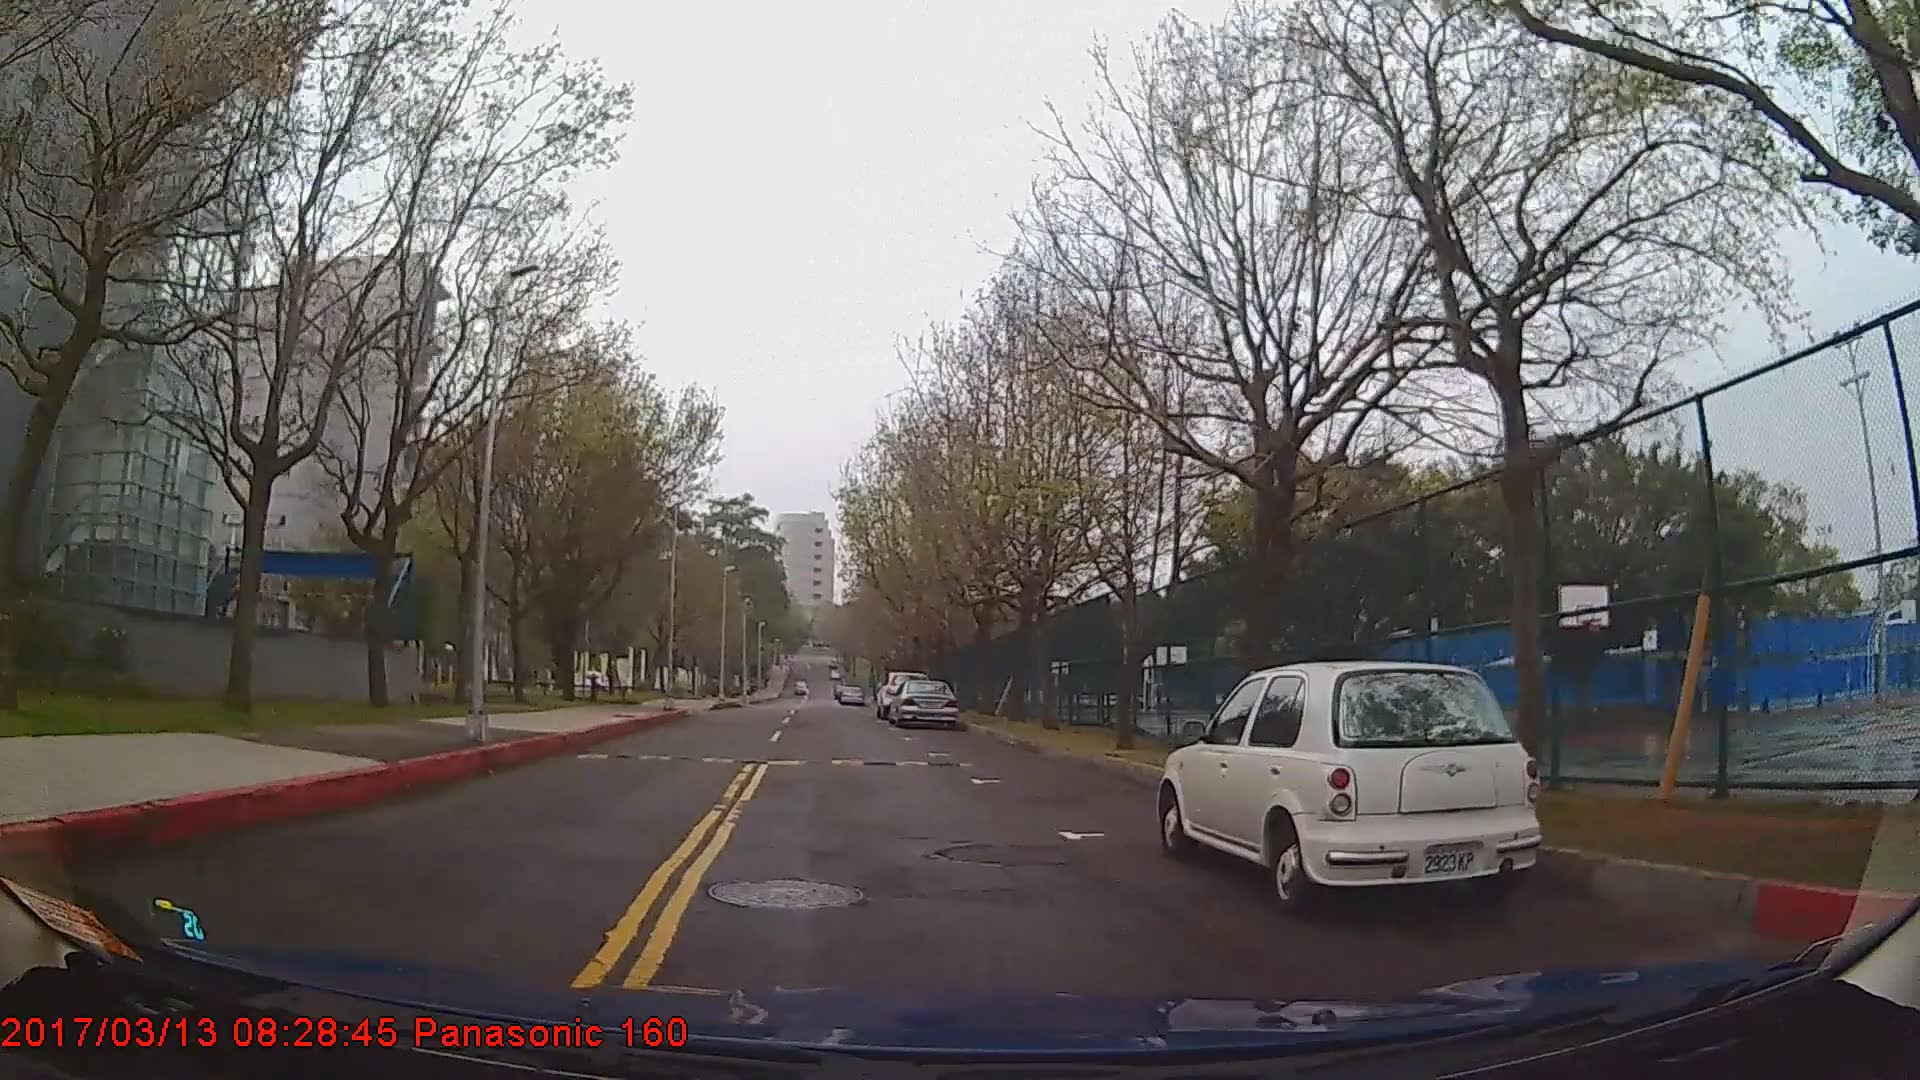vehicle: (1155, 657, 1547, 920), (887, 675, 959, 725)
